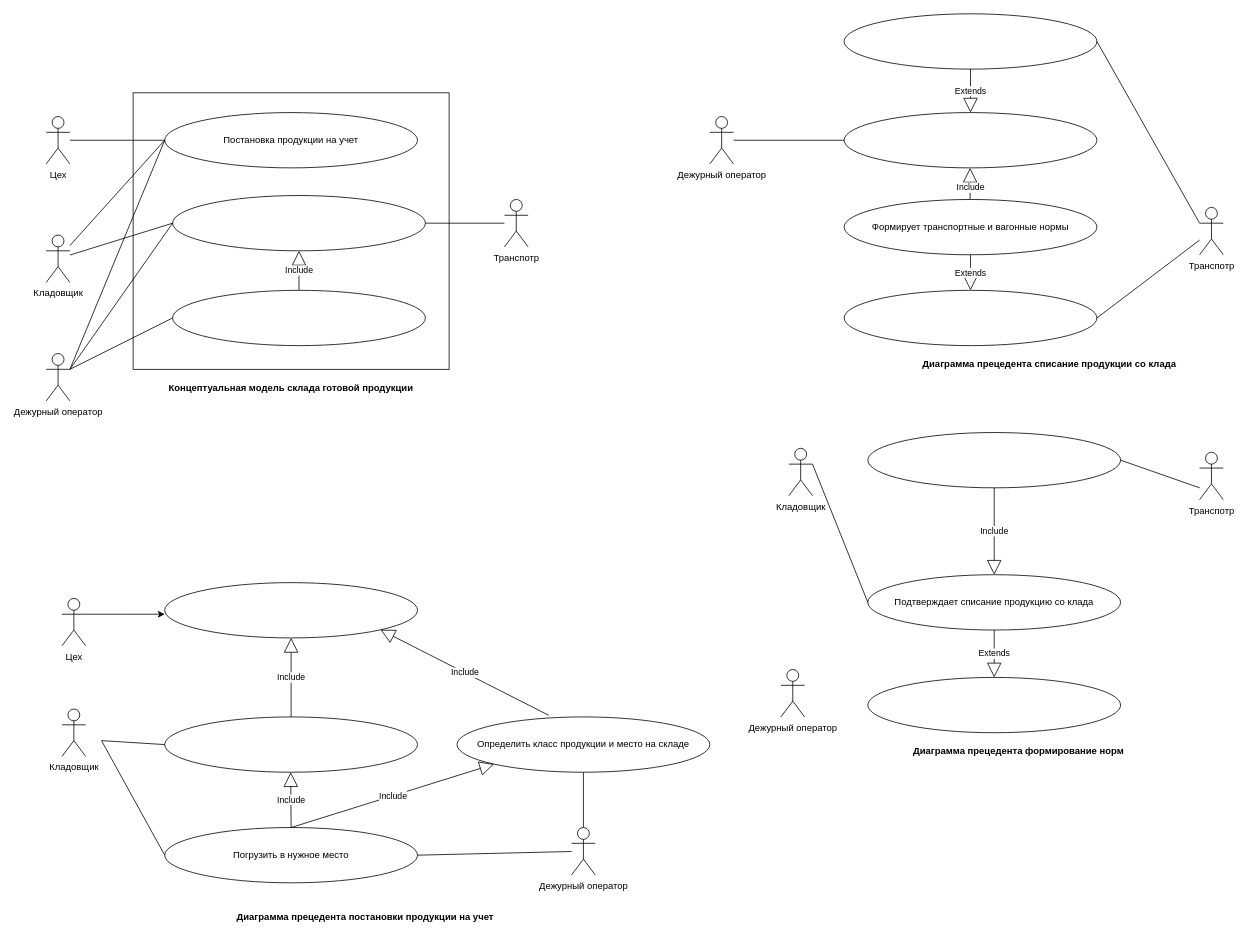
The diagram is 1247 pixels wide and 941 high, and some of its shapes have lost their labels. The box of each missing label's shape, as (x1, y1, x2, y2) in pixels:
Анализирует состояние склада: (843, 112, 1097, 168)
Забирает продукцию со склада: (867, 432, 1121, 488)
Передает информацию о сформированной норме: (843, 290, 1097, 346)
Предоставить карту заказа: (164, 582, 418, 638)
Присылает информацию о свободном транспорте и рейсах: (843, 13, 1097, 69)
Списание продукции со клада: (172, 195, 425, 251)
Удовлетворение в правильности пришедшей продукции: (164, 716, 418, 772)
Удовлетворяет о проукции, списанной со склада: (867, 677, 1121, 733)
Формирование норм: (172, 290, 425, 346)
